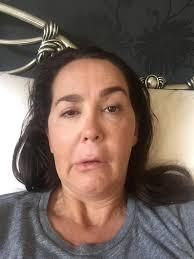strokeEyeMid: (60, 88, 130, 122)
strokeMouthMid: (68, 152, 113, 172)
